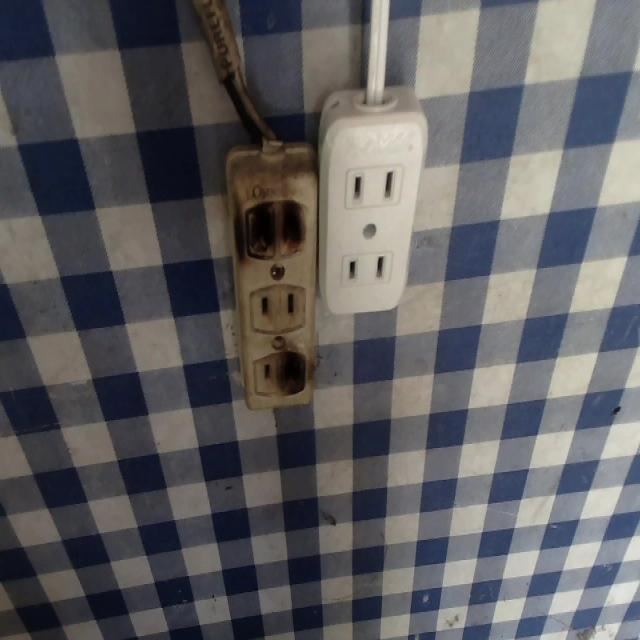-: (238, 193, 309, 260), (276, 348, 309, 392)
